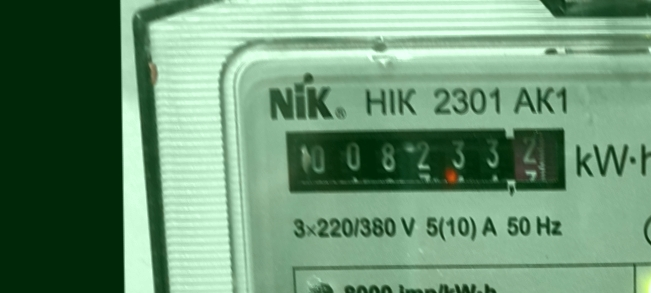0: (306, 142, 327, 174), (342, 140, 361, 172)
2: (412, 139, 432, 172), (520, 134, 537, 165)
3: (448, 138, 466, 169), (484, 136, 501, 168)
8: (378, 140, 396, 172)
screen: (274, 116, 576, 202)
